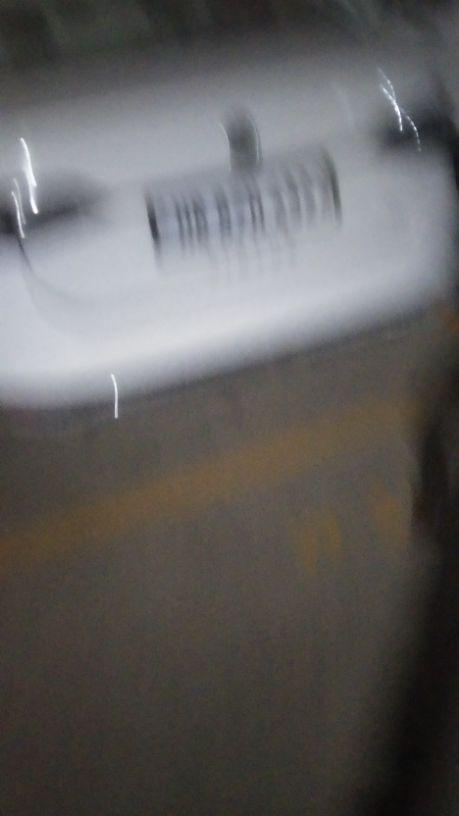license_plate: (1, 6, 457, 417)
